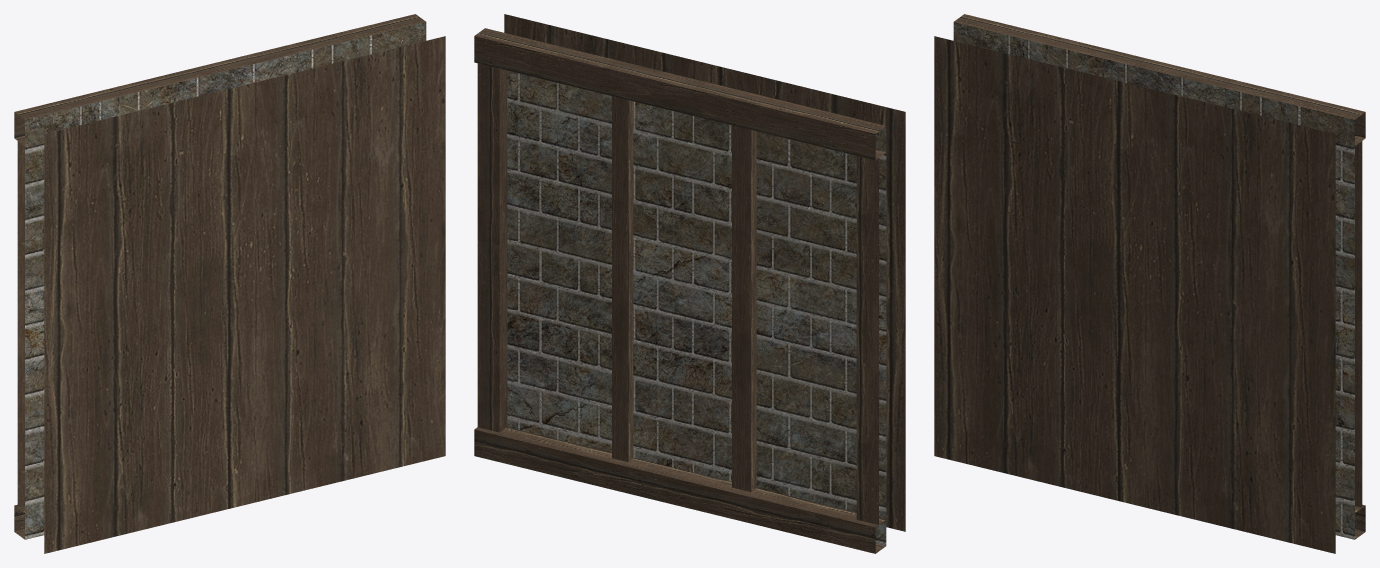
The model's file is ARC1010233.fbx.
3 views of the same model, side by side, from view 1: azimuth 30°, elevation 25°; view 2: azimuth 150°, elevation 25°; view 3: azimuth 330°, elevation 25° (orthographic).
Parts seen in each view (by area): view 1: smARC1010233; view 2: smARC1010233; view 3: smARC1010233.
Boxes of the visible parts, bbox=[...] form: smARC1010233: bbox=[14, 14, 445, 553]; smARC1010233: bbox=[474, 14, 905, 553]; smARC1010233: bbox=[934, 14, 1365, 553].
Bounding box in the file's own units: 268 × 268 × 34.9.
1 material, 1 textured.
